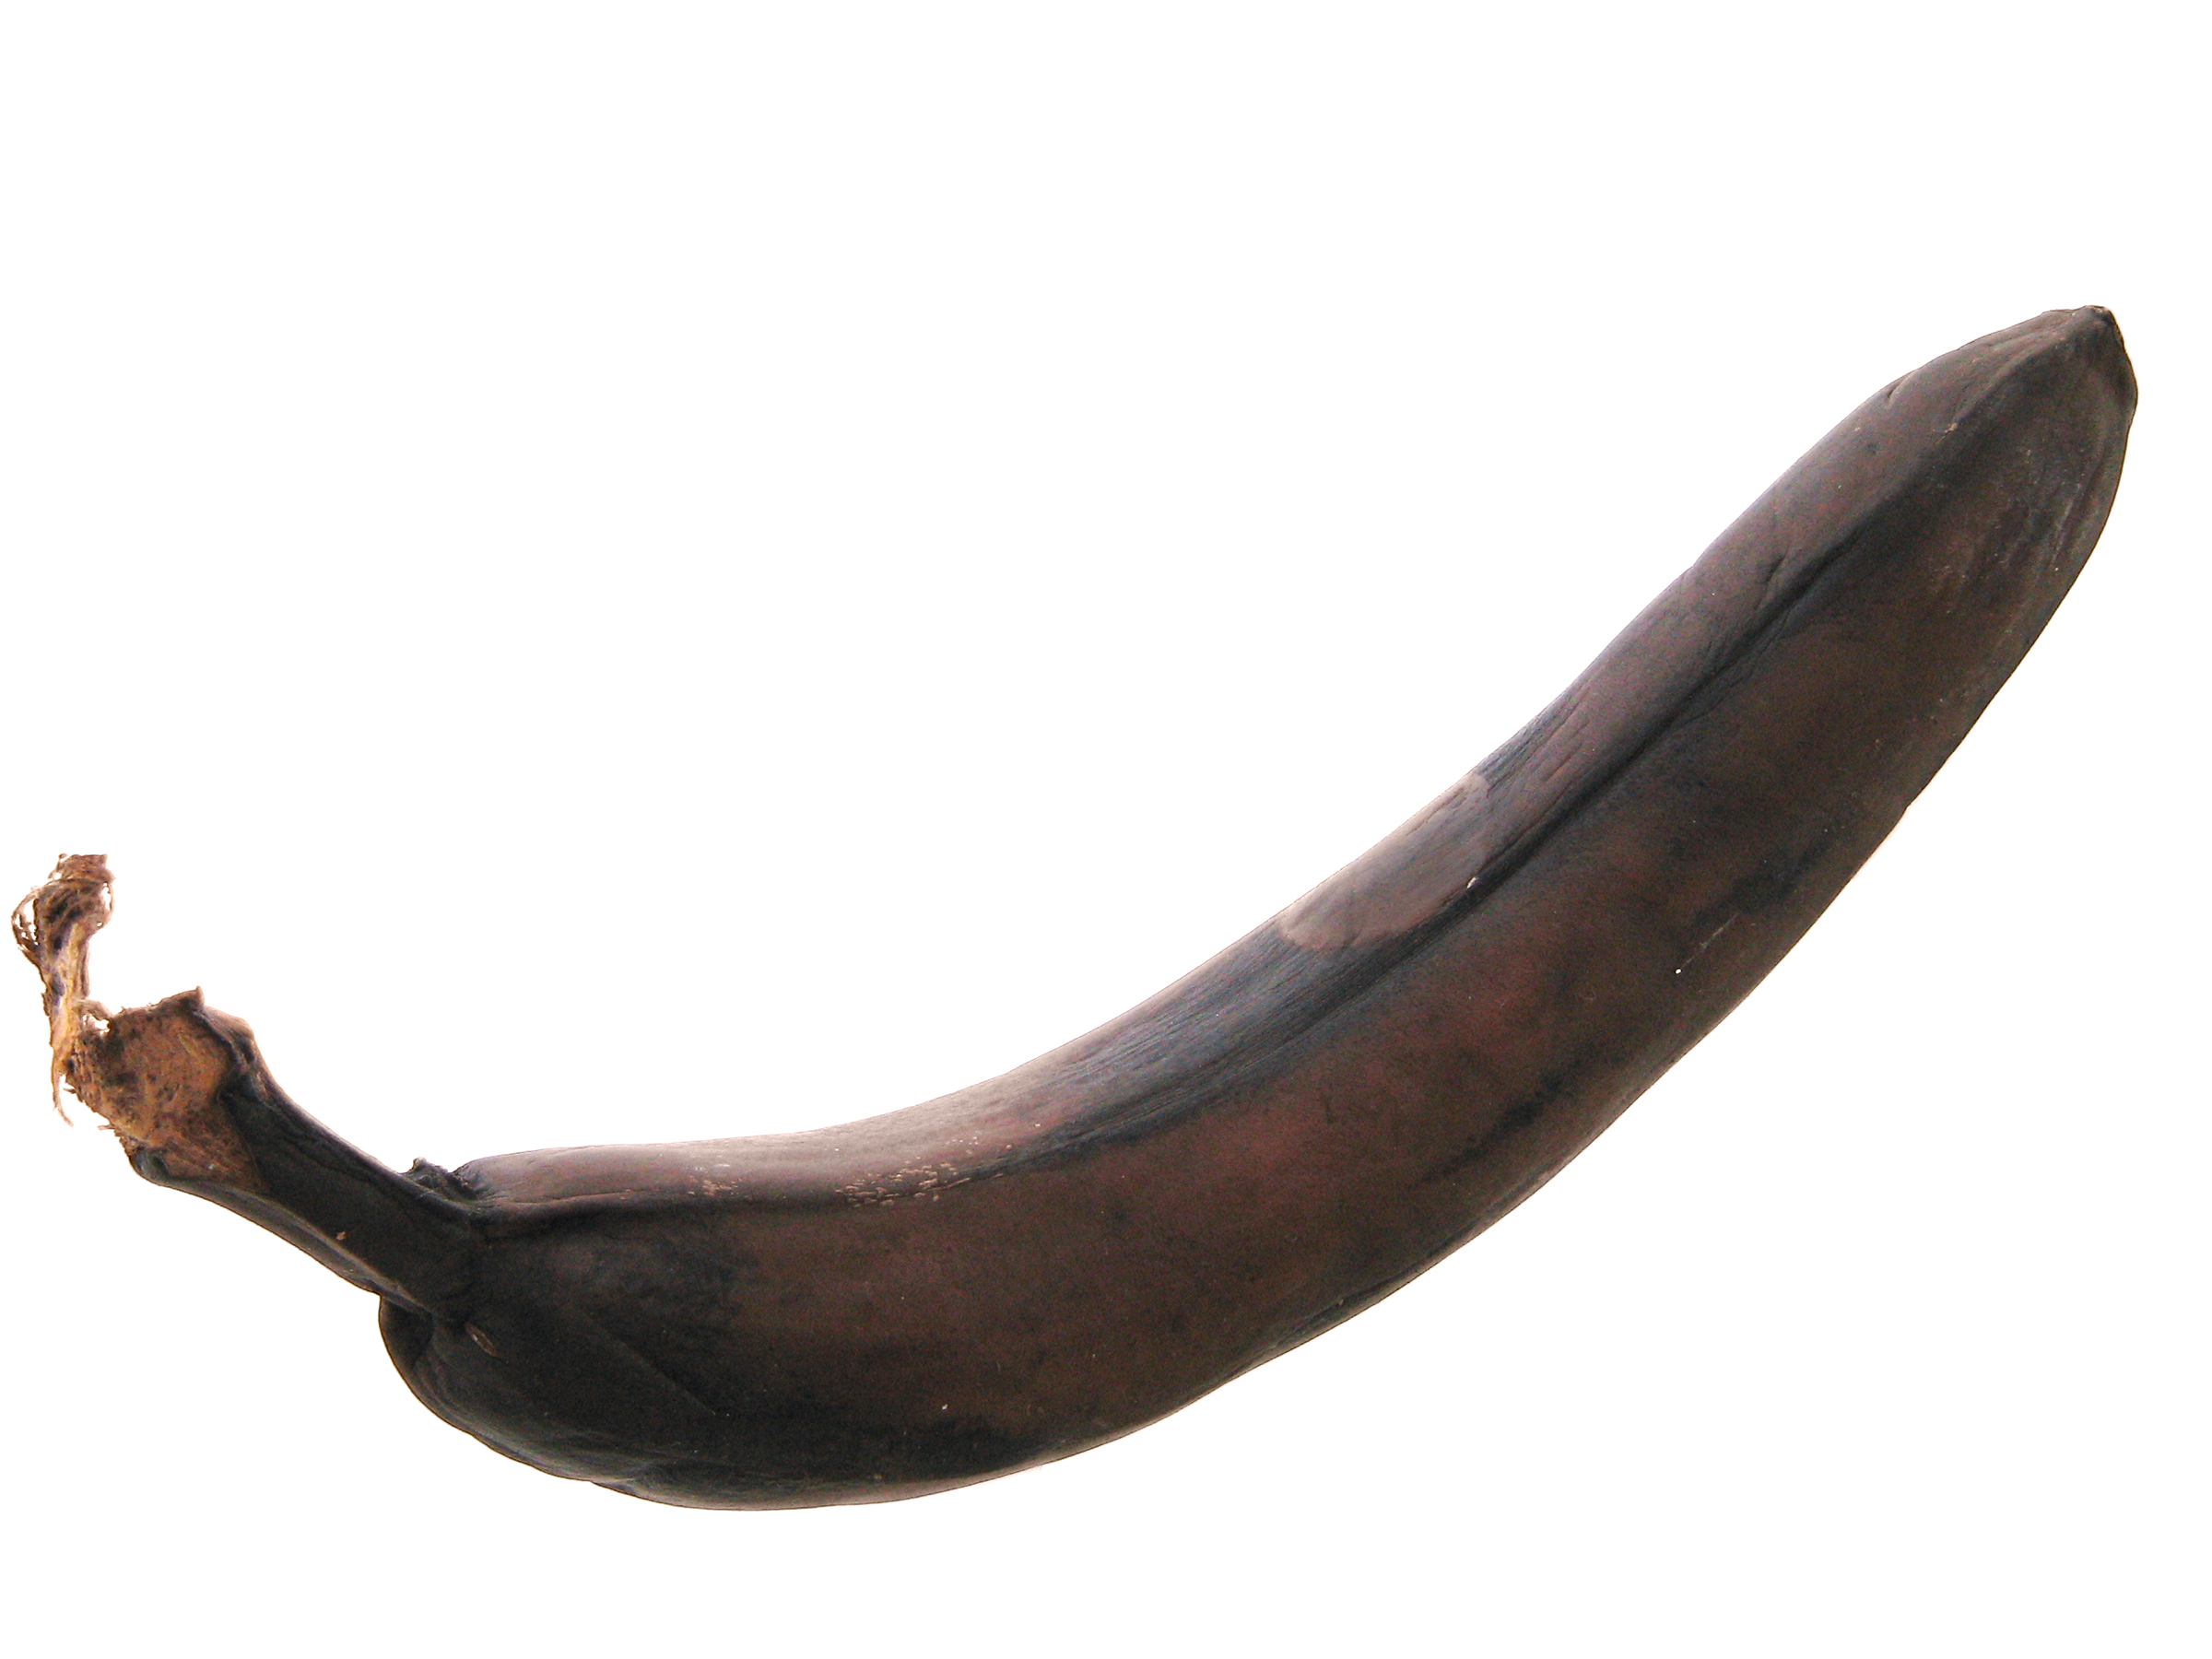rotten_banana: (7, 307, 2135, 1518)
